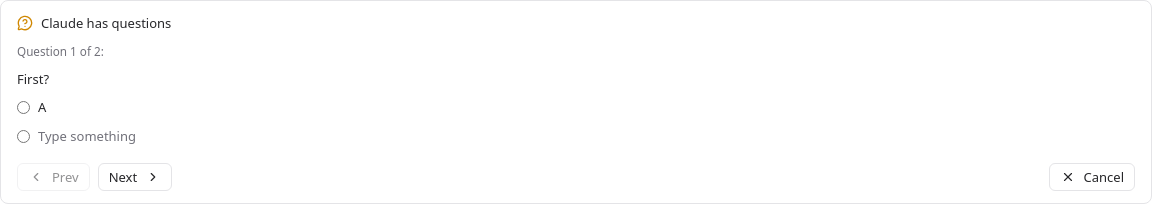
ApprovalCard — AskUserQuestion form (parsed from content_preview) › renders one question at a time and navigates between them via Prev/Next
Check: the text with test id "ask-user-question-progress" reads "Question 1 of 2:", box [17,42,104,60]
Check: the text "First?" is shown, box [17,68,49,89]
Next reveals the second question.
Click the button with test id "ask-user-question-next" at (135, 177), box [98,163,172,191]
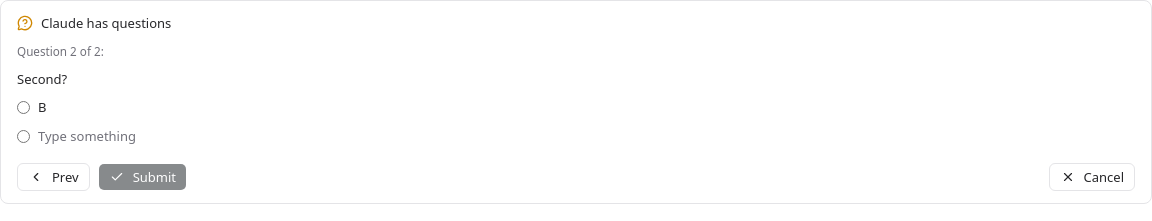
Check: the text with test id "ask-user-question-progress" reads "Question 2 of 2:", box [17,42,104,60]
Check: the text "First?" is gone
Check: the text "Second?" is shown, box [17,68,67,89]
Prev returns to the first.
Click the button with test id "ask-user-question-prev" at (53, 177), box [17,163,90,191]
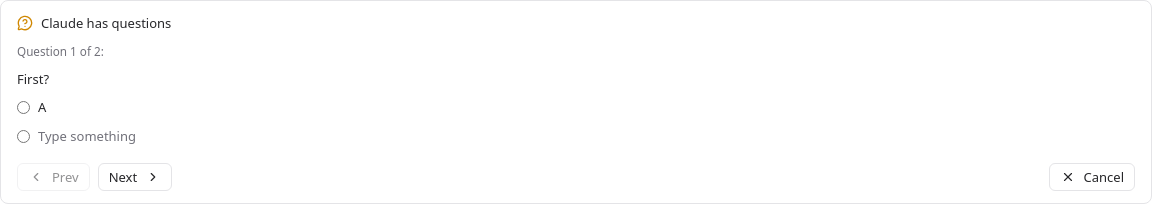
Check: the text "First?" is shown, box [17,68,49,89]
